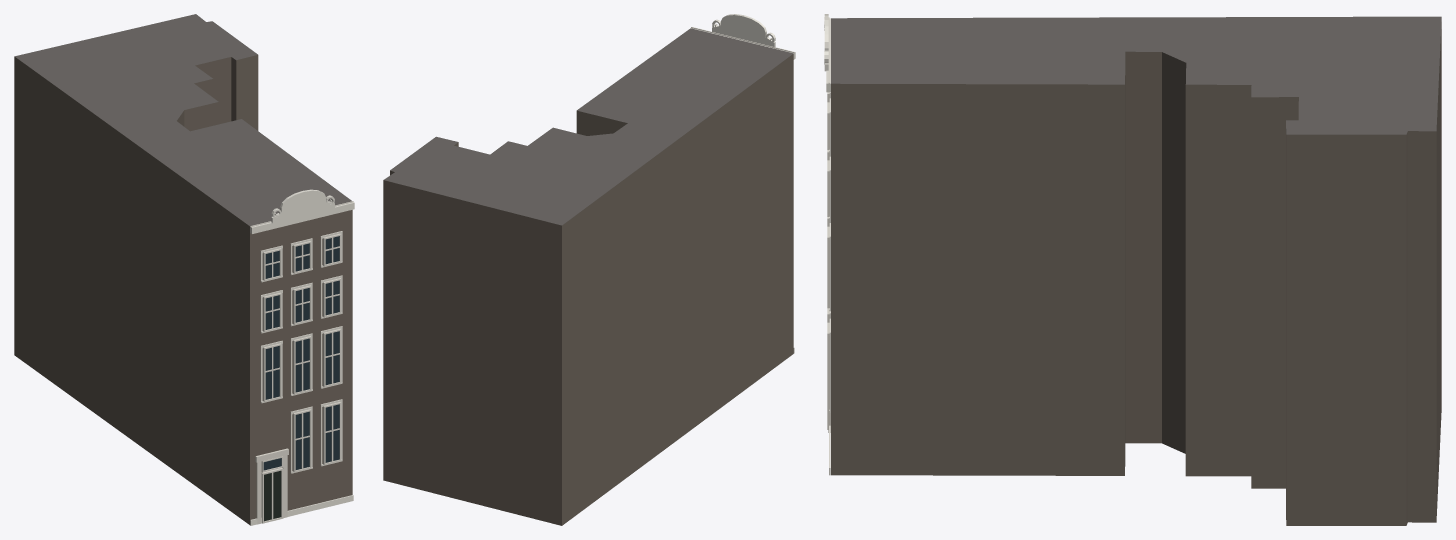
The picture shows the model from 3 angles, left to right: view 1: azimuth 30°, elevation 25°; view 2: azimuth 150°, elevation 25°; view 3: azimuth 270°, elevation 25°; orthographic projection. The views are drawn at different scales.
Parts seen in each view (by area): view 1: spec-0363100012167688; view 2: spec-0363100012167688; view 3: spec-0363100012167688.
Part boxes in pixels (left/top/right/bottom): spec-0363100012167688: left=14, top=14, right=354, bottom=525; spec-0363100012167688: left=383, top=14, right=795, bottom=525; spec-0363100012167688: left=824, top=14, right=1441, bottom=525.
Bounding box in the file's own units: 10.42 × 17.4 × 23.05.
